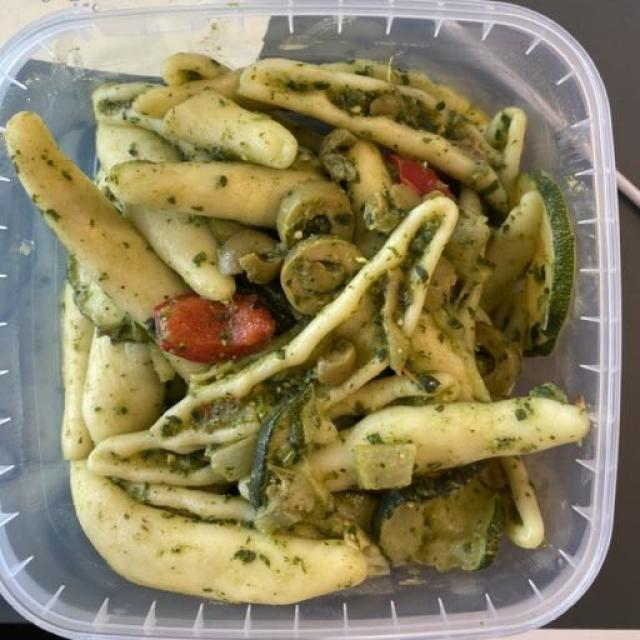green-olives: (246, 179, 368, 306)
mixed-vegetables: (147, 178, 579, 575)
pasta: (16, 56, 587, 603)
